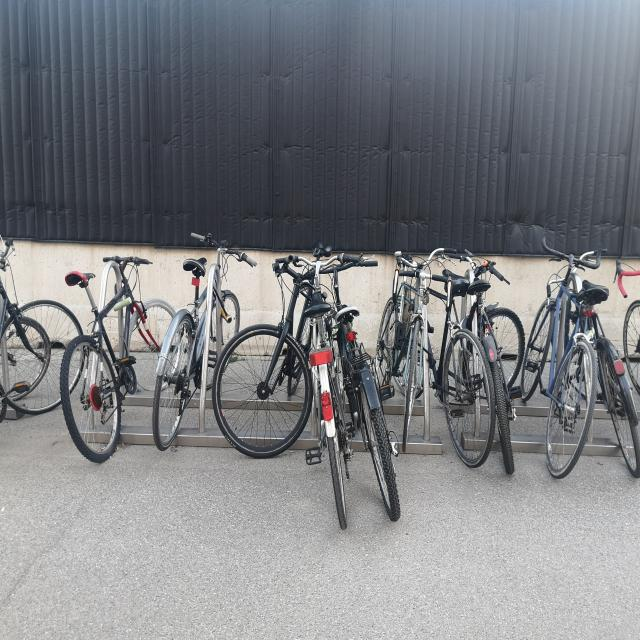Bicycle: (198, 230, 337, 473), (37, 249, 170, 472), (143, 222, 257, 480), (317, 242, 414, 524), (511, 227, 606, 484), (415, 260, 512, 483), (370, 238, 457, 481), (566, 249, 639, 500), (0, 233, 85, 432), (293, 259, 352, 533), (466, 251, 522, 489)
